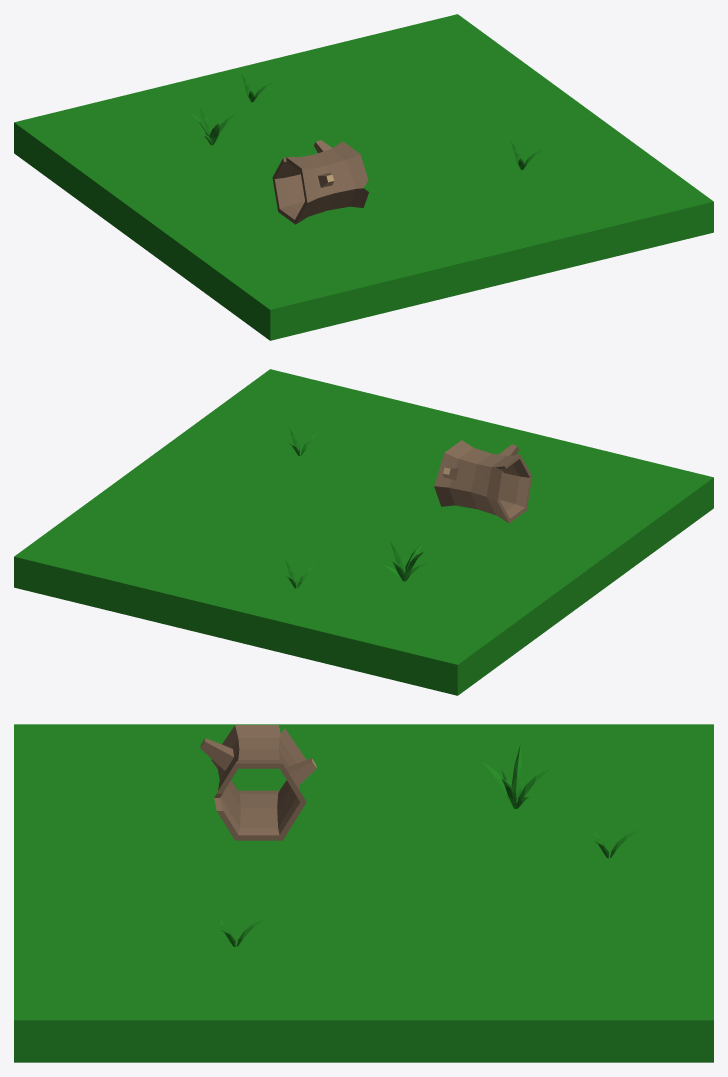
The model's file is field2.fbx.
3 renders of one model, top to bottom at view 1: azimuth 30°, elevation 25°; view 2: azimuth 150°, elevation 25°; view 3: azimuth 270°, elevation 25°, orthographic. The views are drawn at different scales.
Visible parts, largest first — view 1: Grass_Flat_6, Grass_Flat_8, Grass_Flat_7, Grass_Flat_3, Grass_Flat_2, Grass_Flat_5, Grass_Flat_1, Grass_Flat_4, Grass_Flat_0, Prop_Hollow_Trunk_16; view 2: Grass_Flat_3, Grass_Flat_5, Grass_Flat_4, Grass_Flat_2, Grass_Flat_6, Grass_Flat_1, Grass_Flat_8, Grass_Flat_0, Grass_Flat_7, Prop_Hollow_Trunk_16, Prop_Grass_Clump_4_9; view 3: Grass_Flat_5, Grass_Flat_1, Grass_Flat_8, Grass_Flat_4, Grass_Flat_7, Grass_Flat_0, Grass_Flat_3, Grass_Flat_6, Grass_Flat_2, Prop_Hollow_Trunk_16, Prop_Grass_Clump_4_9.
Boxes of the visible parts, left/top/right/bottom form: Grass_Flat_6: left=184, top=211, right=417, bottom=340; Grass_Flat_8: left=481, top=139, right=713, bottom=268; Grass_Flat_7: left=333, top=175, right=565, bottom=304; Grass_Flat_3: left=14, top=86, right=246, bottom=215; Grass_Flat_2: left=99, top=149, right=332, bottom=277; Grass_Flat_5: left=310, top=14, right=542, bottom=112; Grass_Flat_1: left=395, top=76, right=627, bottom=174; Grass_Flat_4: left=162, top=50, right=394, bottom=148; Grass_Flat_0: left=247, top=113, right=480, bottom=210; Prop_Hollow_Trunk_16: left=272, top=140, right=368, bottom=224; Grass_Flat_3: left=310, top=567, right=543, bottom=695; Grass_Flat_5: left=14, top=494, right=246, bottom=623; Grass_Flat_4: left=162, top=530, right=394, bottom=659; Grass_Flat_2: left=402, top=508, right=628, bottom=632; Grass_Flat_6: left=522, top=441, right=713, bottom=570; Grass_Flat_1: left=100, top=431, right=332, bottom=529; Grass_Flat_8: left=185, top=369, right=417, bottom=467; Grass_Flat_0: left=247, top=468, right=473, bottom=565; Grass_Flat_7: left=333, top=405, right=565, bottom=492; Prop_Hollow_Trunk_16: left=434, top=440, right=532, bottom=523; Prop_Grass_Clump_4_9: left=383, top=541, right=427, bottom=581; Grass_Flat_5: left=480, top=921, right=713, bottom=1062; Grass_Flat_1: left=247, top=921, right=480, bottom=1062; Grass_Flat_8: left=14, top=921, right=247, bottom=1062; Grass_Flat_4: left=480, top=823, right=713, bottom=921; Grass_Flat_7: left=14, top=823, right=247, bottom=921; Grass_Flat_0: left=247, top=823, right=480, bottom=921; Grass_Flat_3: left=480, top=724, right=713, bottom=822; Grass_Flat_6: left=14, top=724, right=247, bottom=822; Grass_Flat_2: left=247, top=724, right=480, bottom=822; Prop_Hollow_Trunk_16: left=200, top=725, right=316, bottom=840; Prop_Grass_Clump_4_9: left=482, top=744, right=549, bottom=808.
Bounding box in the file's own units: 30 × 5.54 × 30.
